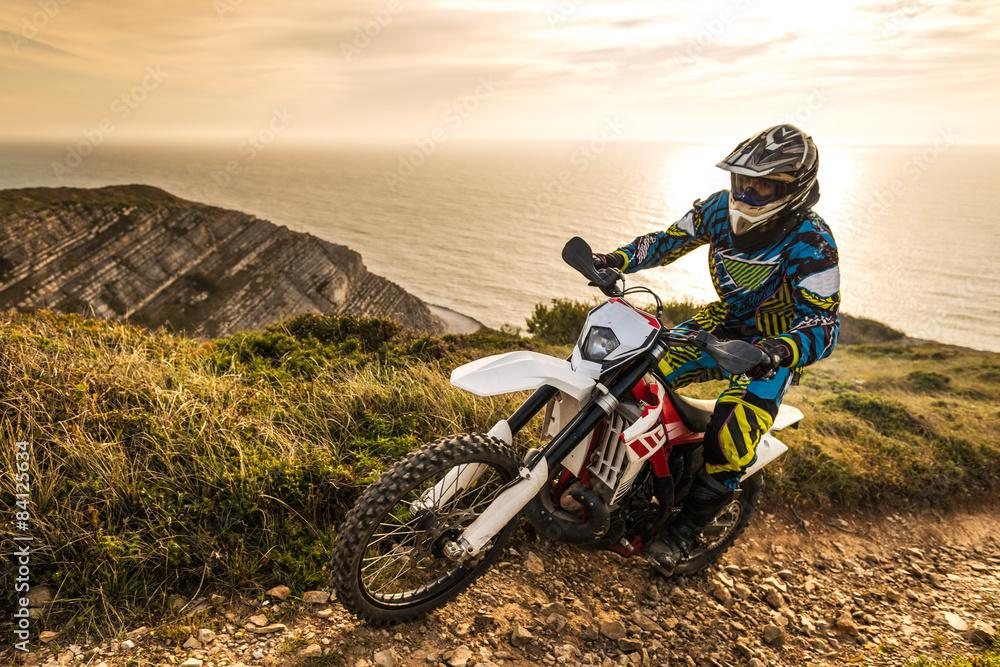helmet: (714, 122, 821, 238)
